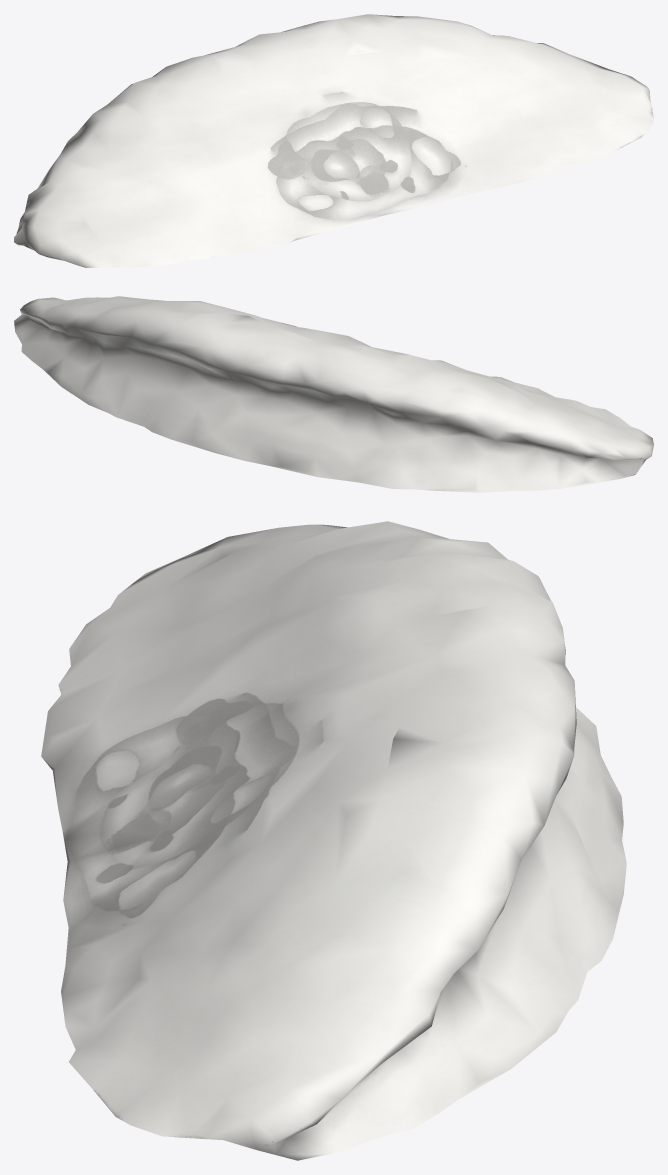
File: snow_drift.glb
The picture shows the model from 3 angles, top to bottom: view 1: azimuth 30°, elevation 25°; view 2: azimuth 150°, elevation 25°; view 3: azimuth 270°, elevation 25°; orthographic projection. The views are drawn at different scales.
Visible parts, largest first — view 1: prop_snow_drift_felt; view 2: prop_snow_drift_felt; view 3: prop_snow_drift_felt.
Part boxes in pixels (x1=…): prop_snow_drift_felt: x1=14, y1=14, x2=653, y2=267; prop_snow_drift_felt: x1=14, y1=296, x2=653, y2=492; prop_snow_drift_felt: x1=41, y1=521, x2=626, y2=1160.
Size of the model in its own units: 6.75 by 1.01 by 2.75.
Materials: 1 (1 with a texture image).
